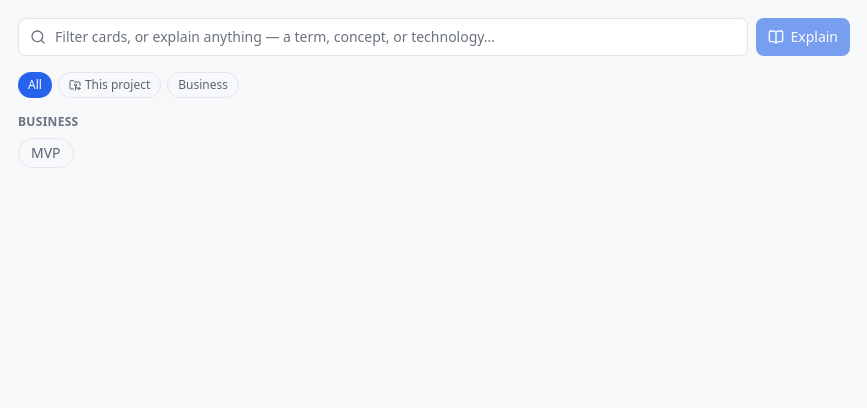
UnderstandHub › renders only the populated sections of a partial card
This screenshot has width=867, height=408.
expect the button "MVP" is shown: met, box [18,138,74,168]
In the field with placeholder "explain anything": (383, 37) [18,18,748,56], type "Partial"
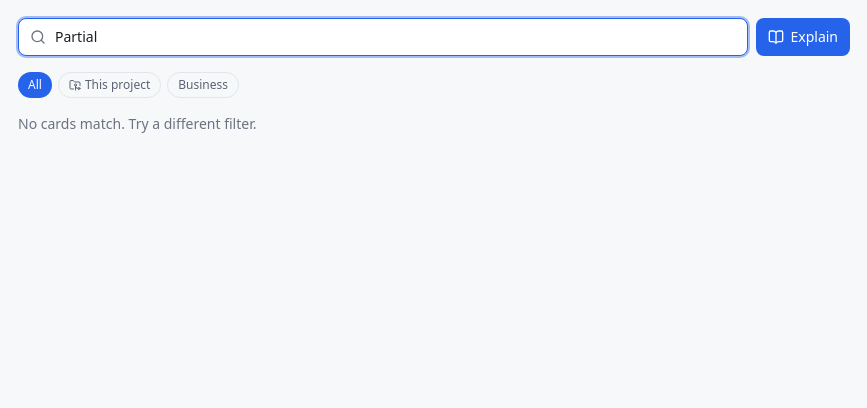
Click the button "Explain": click(803, 37) [756,18,850,56]
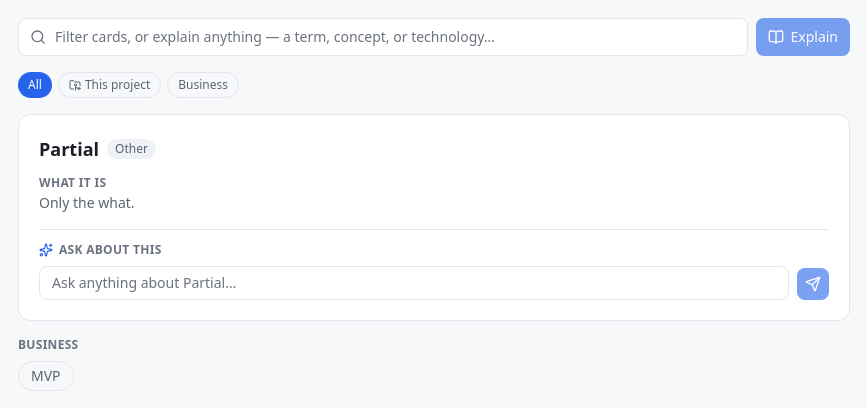
expect the text "Only the what." is shown: met, box [39,193,134,212]
